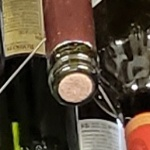bottle: (32, 40, 108, 119)
